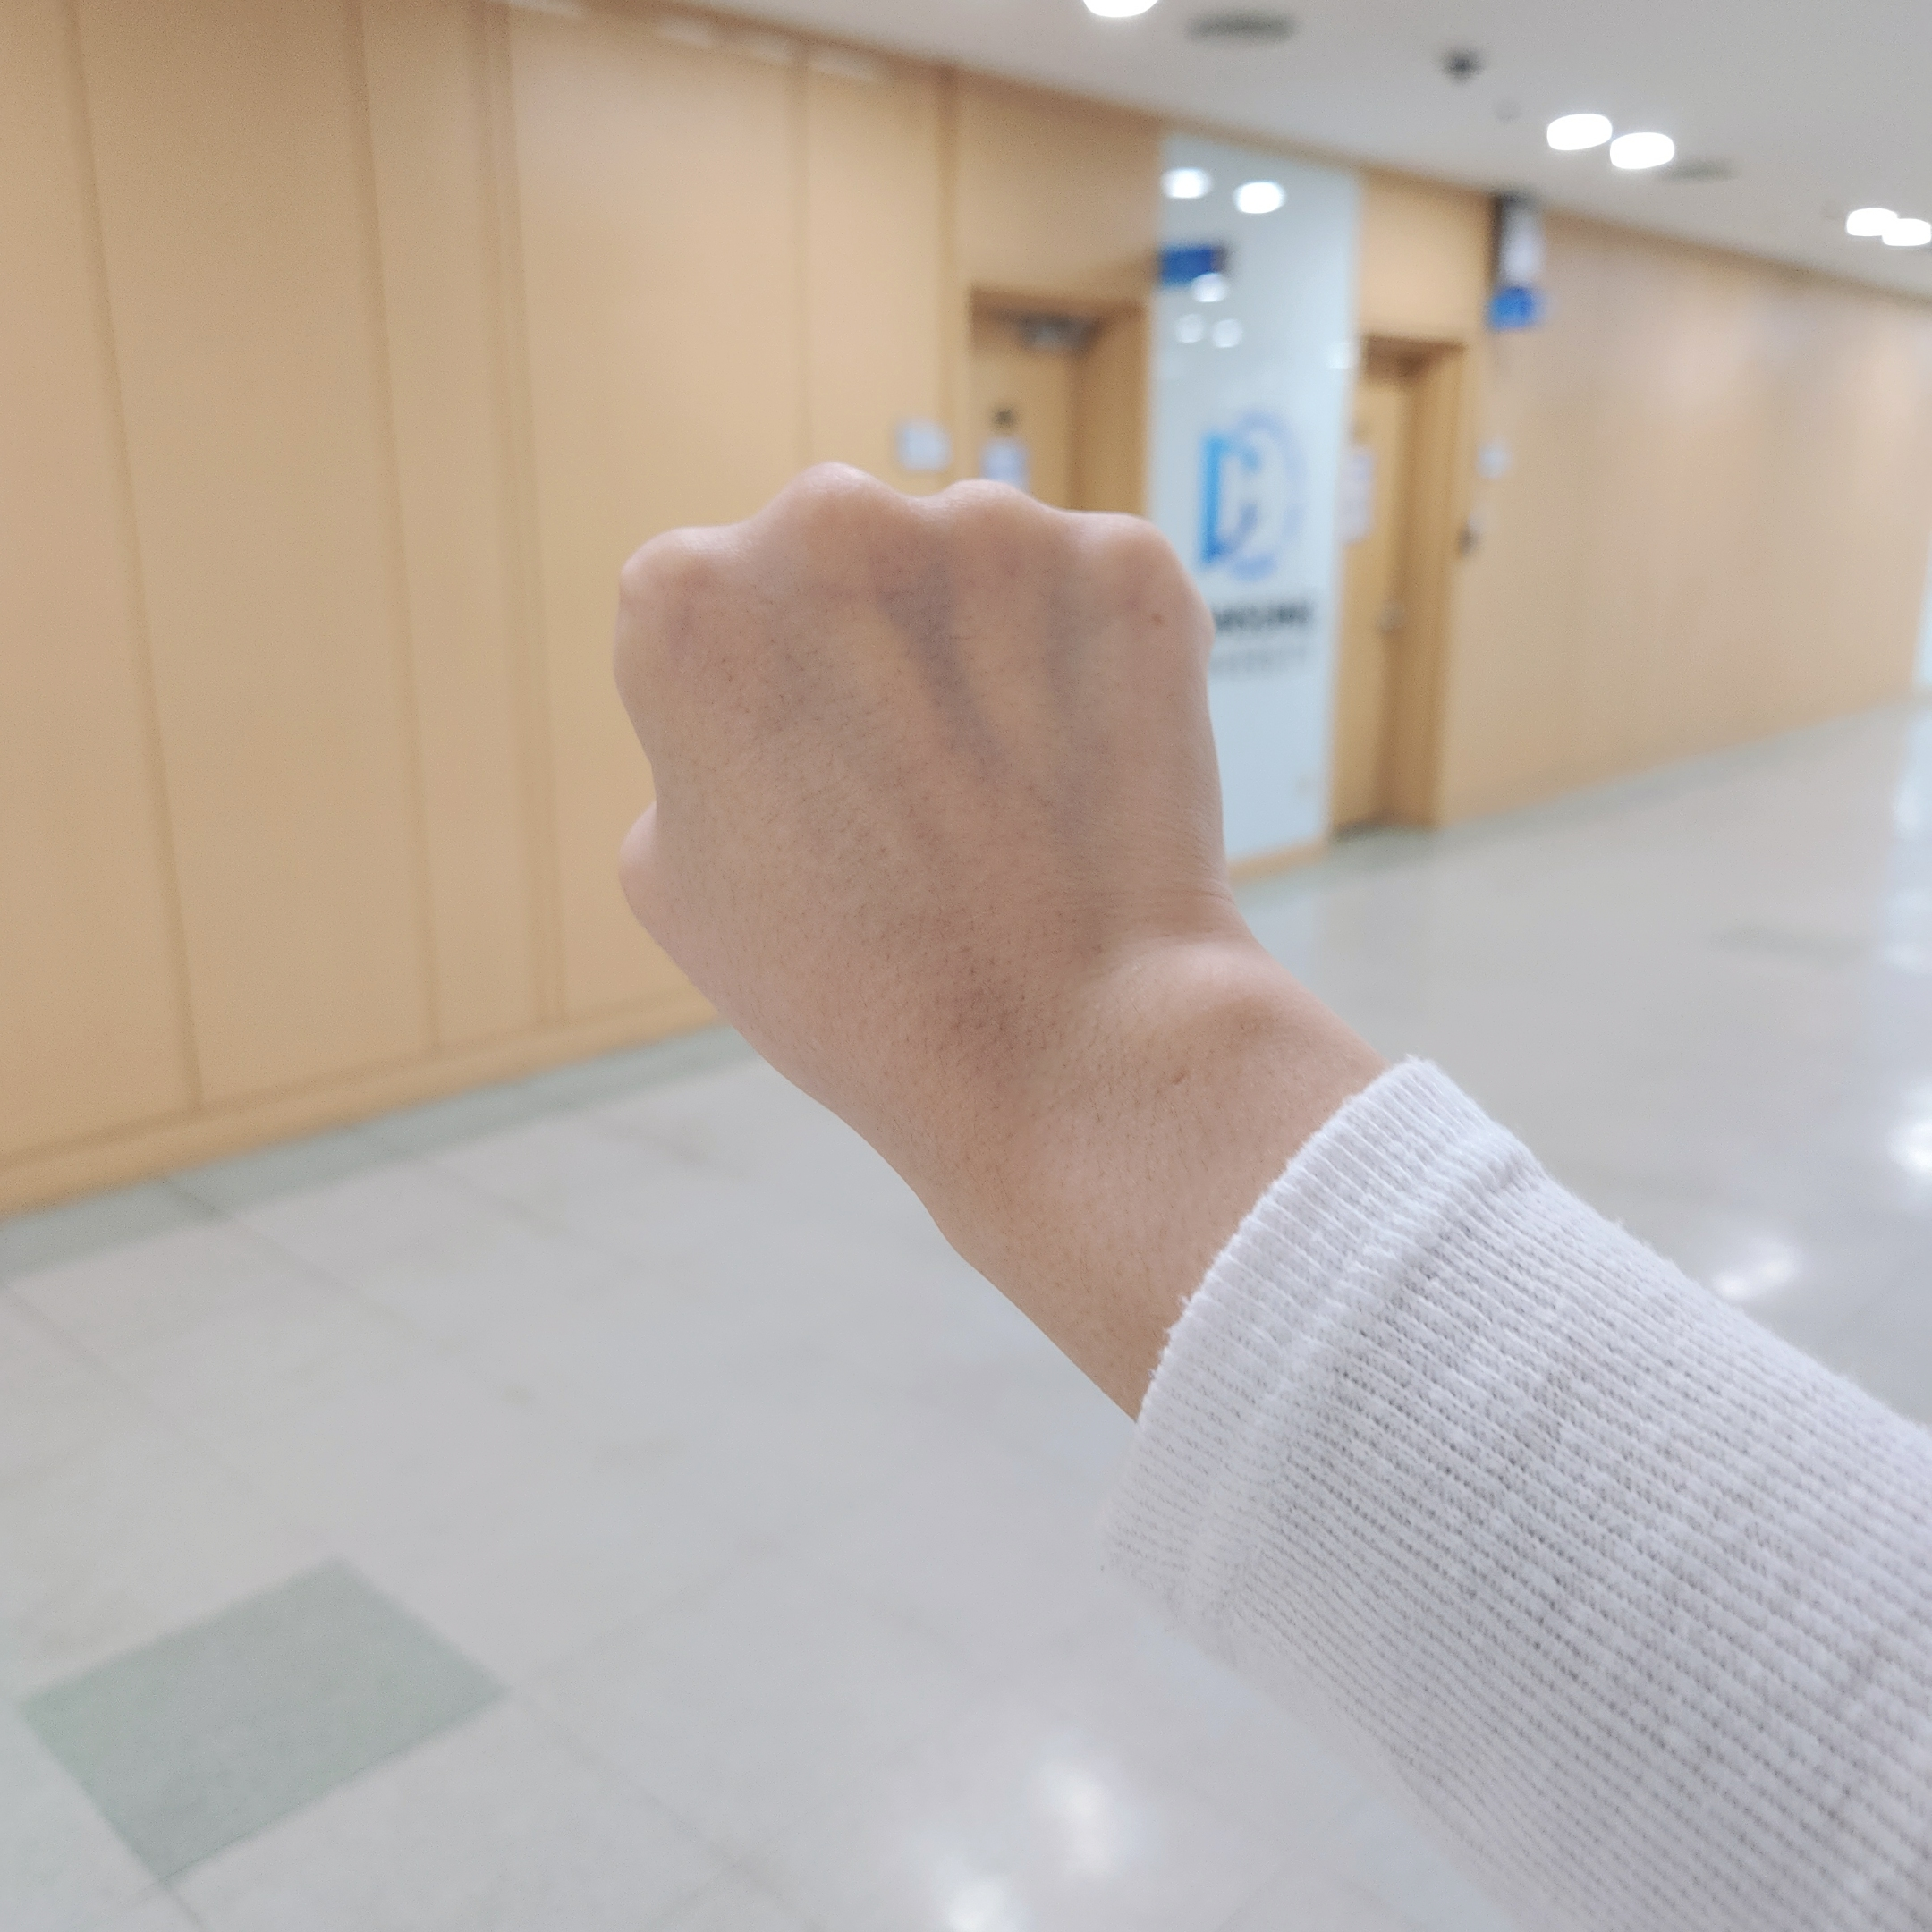smile: (602, 453, 1242, 1122)
